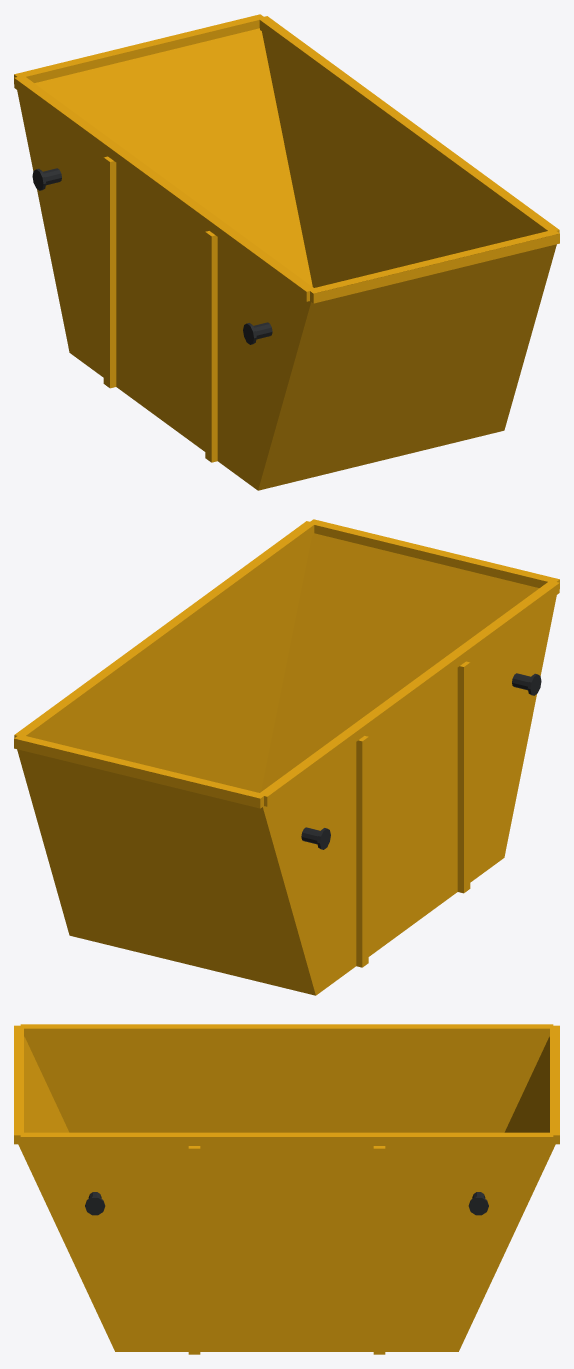
Rendered from plant.skip.12yd.glb.
The picture shows the model from 3 angles, top to bottom: view 1: azimuth 30°, elevation 25°; view 2: azimuth 150°, elevation 25°; view 3: azimuth 270°, elevation 25°; orthographic projection. The views are drawn at different scales.
Parts seen in each view (by area): view 1: main__plant_yellow, main__steel_dark; view 2: main__plant_yellow, main__steel_dark; view 3: main__plant_yellow, main__steel_dark.
Part boxes in pixels (box(x1,y1,x2,y2)): main__plant_yellow: box(14, 14, 559, 490); main__steel_dark: box(32, 168, 272, 344); main__plant_yellow: box(14, 519, 559, 995); main__steel_dark: box(301, 673, 541, 849); main__plant_yellow: box(14, 1024, 559, 1354); main__steel_dark: box(85, 1192, 488, 1215).
Bounding box in the file's own units: 2.1 × 1.7 × 3.79.
